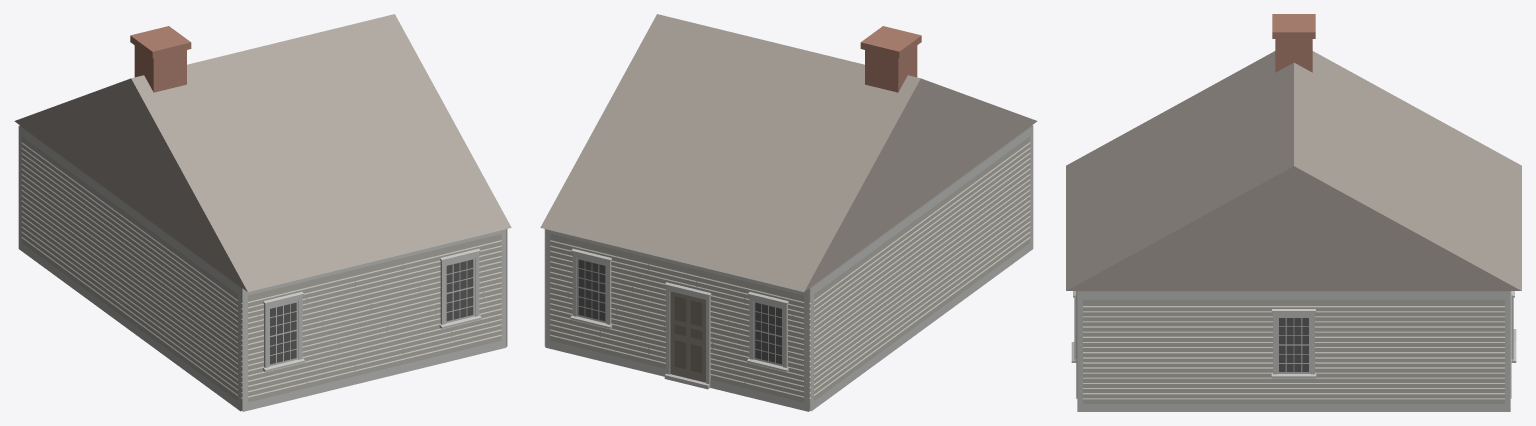
The model's file is recon_1835_blk_school_section_tier_94_d5_03__inferred_1835.glb.
3 views of the same model, side by side, from view 1: azimuth 30°, elevation 25°; view 2: azimuth 150°, elevation 25°; view 3: azimuth 270°, elevation 25° (orthographic). The views are drawn at different scales.
Parts seen in each view (by area): view 1: recon_1835_blk_school_section_tier_94_d5_03__inferred_1835; view 2: recon_1835_blk_school_section_tier_94_d5_03__inferred_1835; view 3: recon_1835_blk_school_section_tier_94_d5_03__inferred_1835.
Part boxes in pixels (x1=…): recon_1835_blk_school_section_tier_94_d5_03__inferred_1835: x1=14, y1=14, x2=511, y2=411; recon_1835_blk_school_section_tier_94_d5_03__inferred_1835: x1=540, y1=14, x2=1037, y2=411; recon_1835_blk_school_section_tier_94_d5_03__inferred_1835: x1=1066, y1=14, x2=1521, y2=411.
Bounding box in the file's own units: 6.83 × 6.87 × 10.25.
